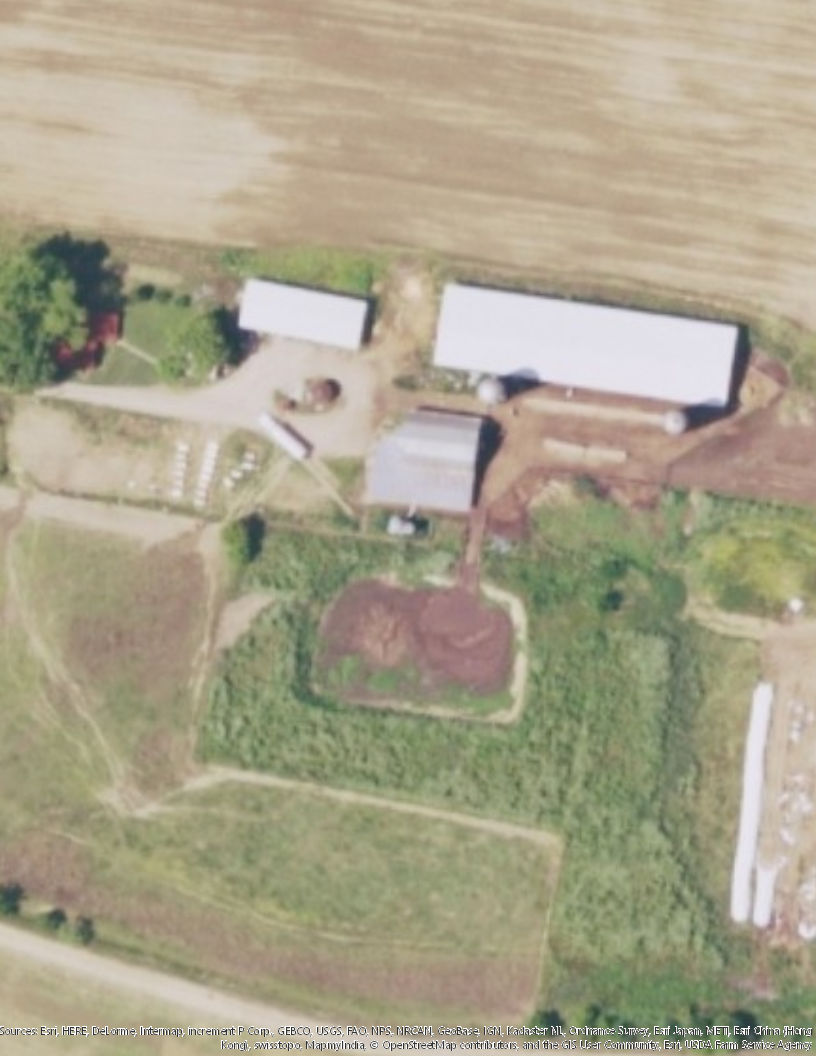cafo: (426, 277, 748, 418), (234, 271, 375, 358)
